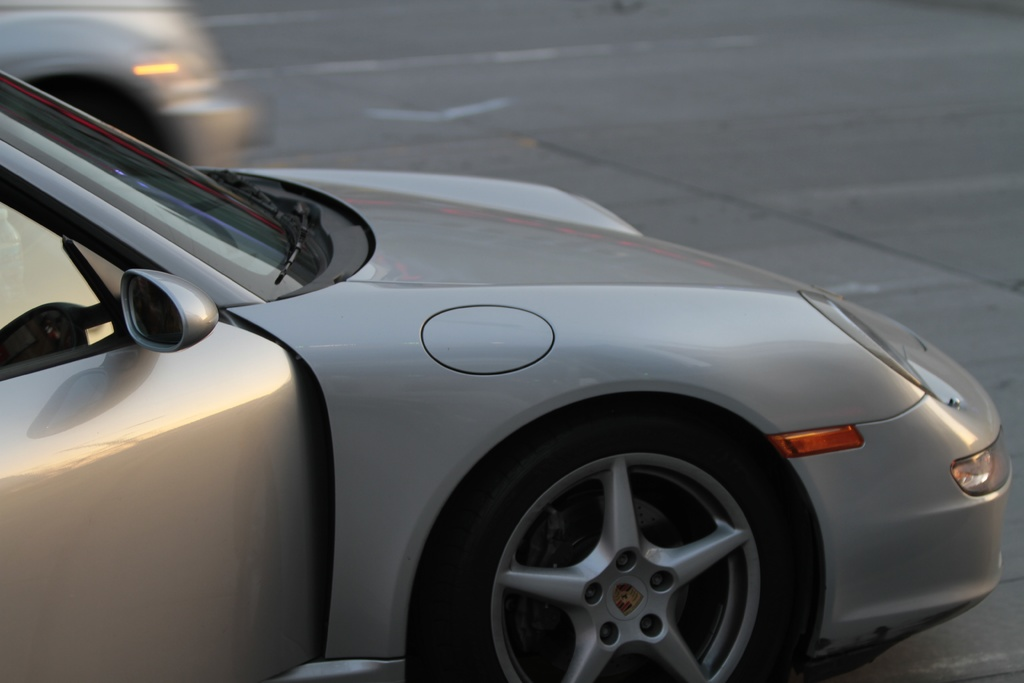Car: (0, 68, 1012, 681), (0, 0, 254, 167)
